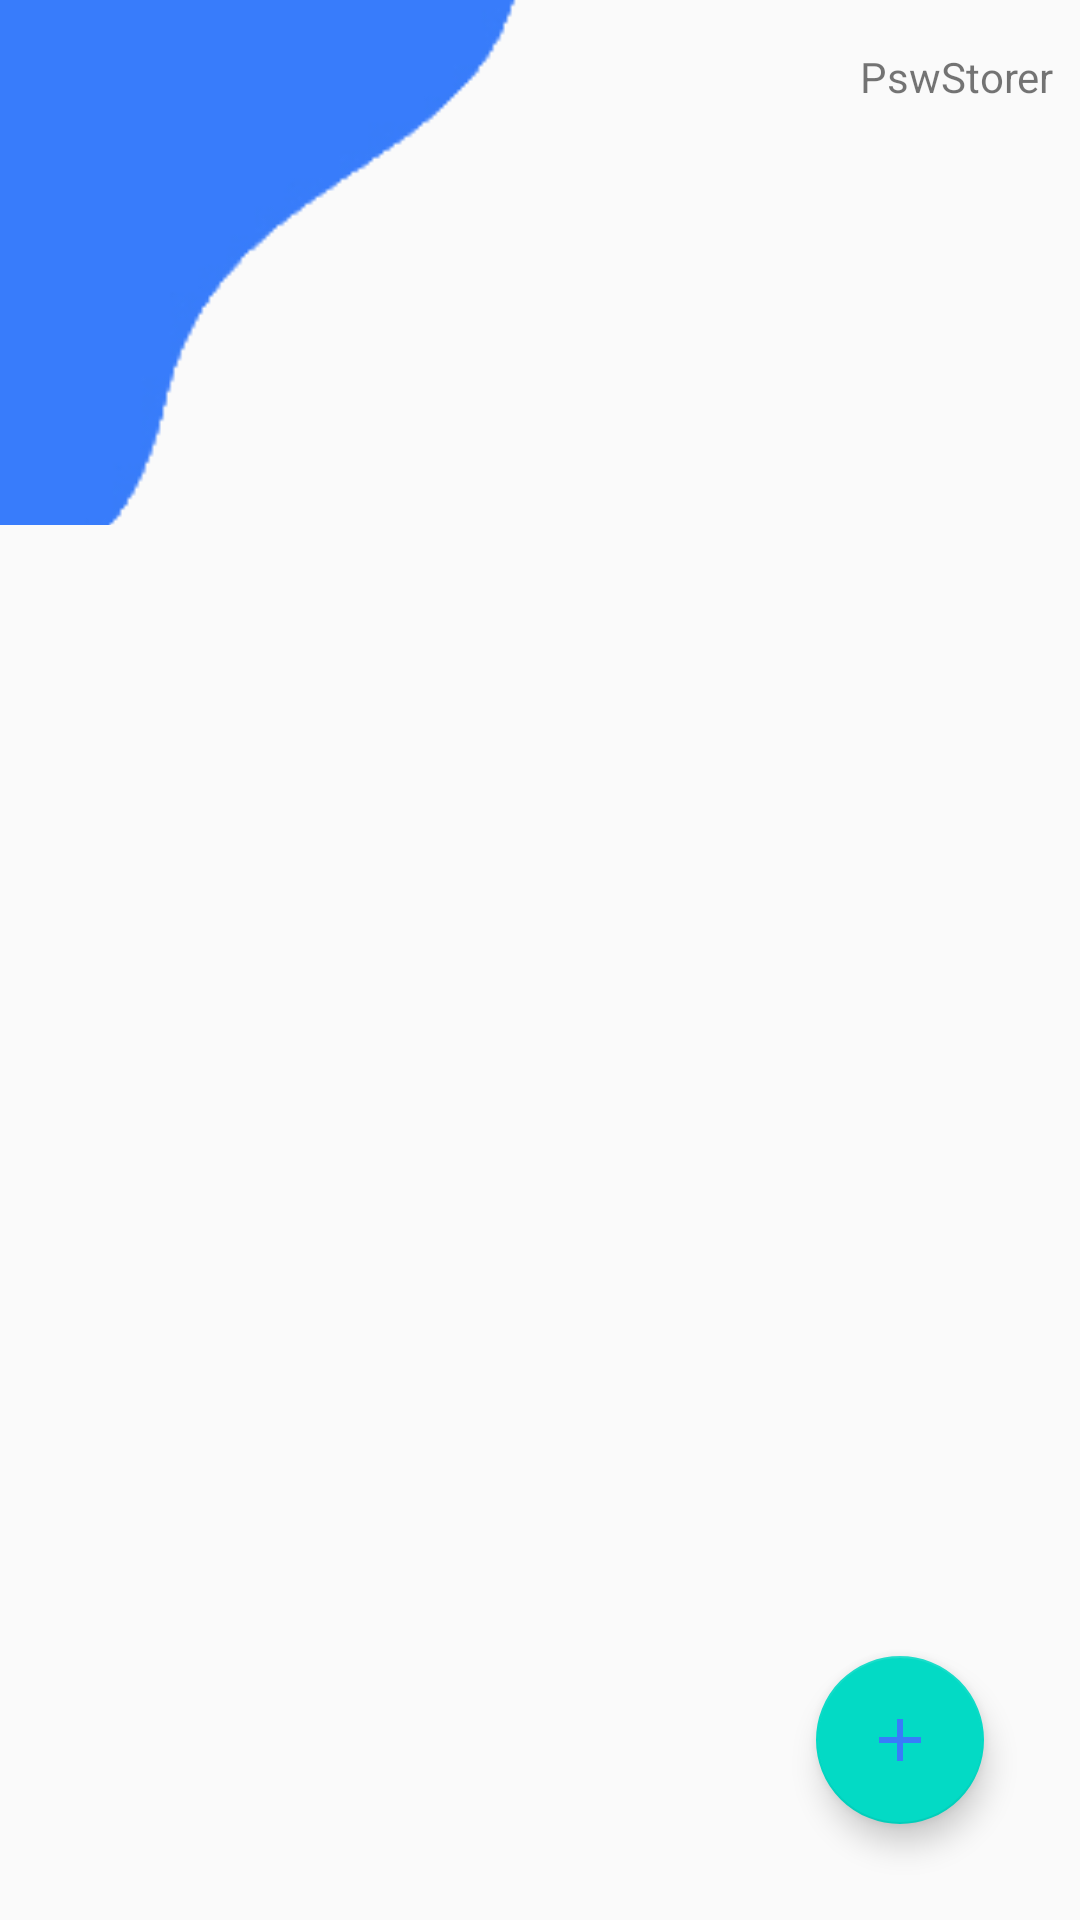

Icon click points for this 1080*1920 phone screenshot, format (x,y):
add credenziale: (900,1740)
